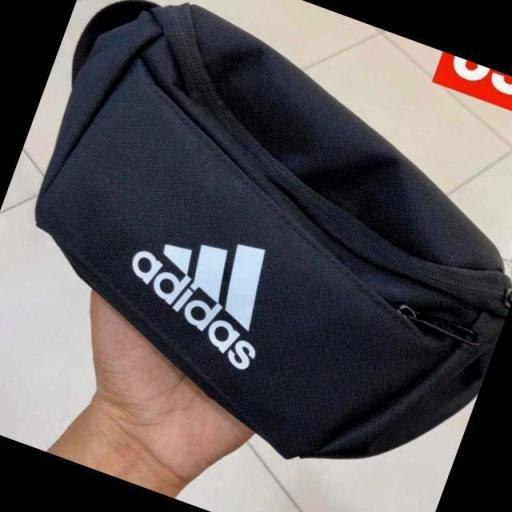bag: (30, 0, 508, 467)
